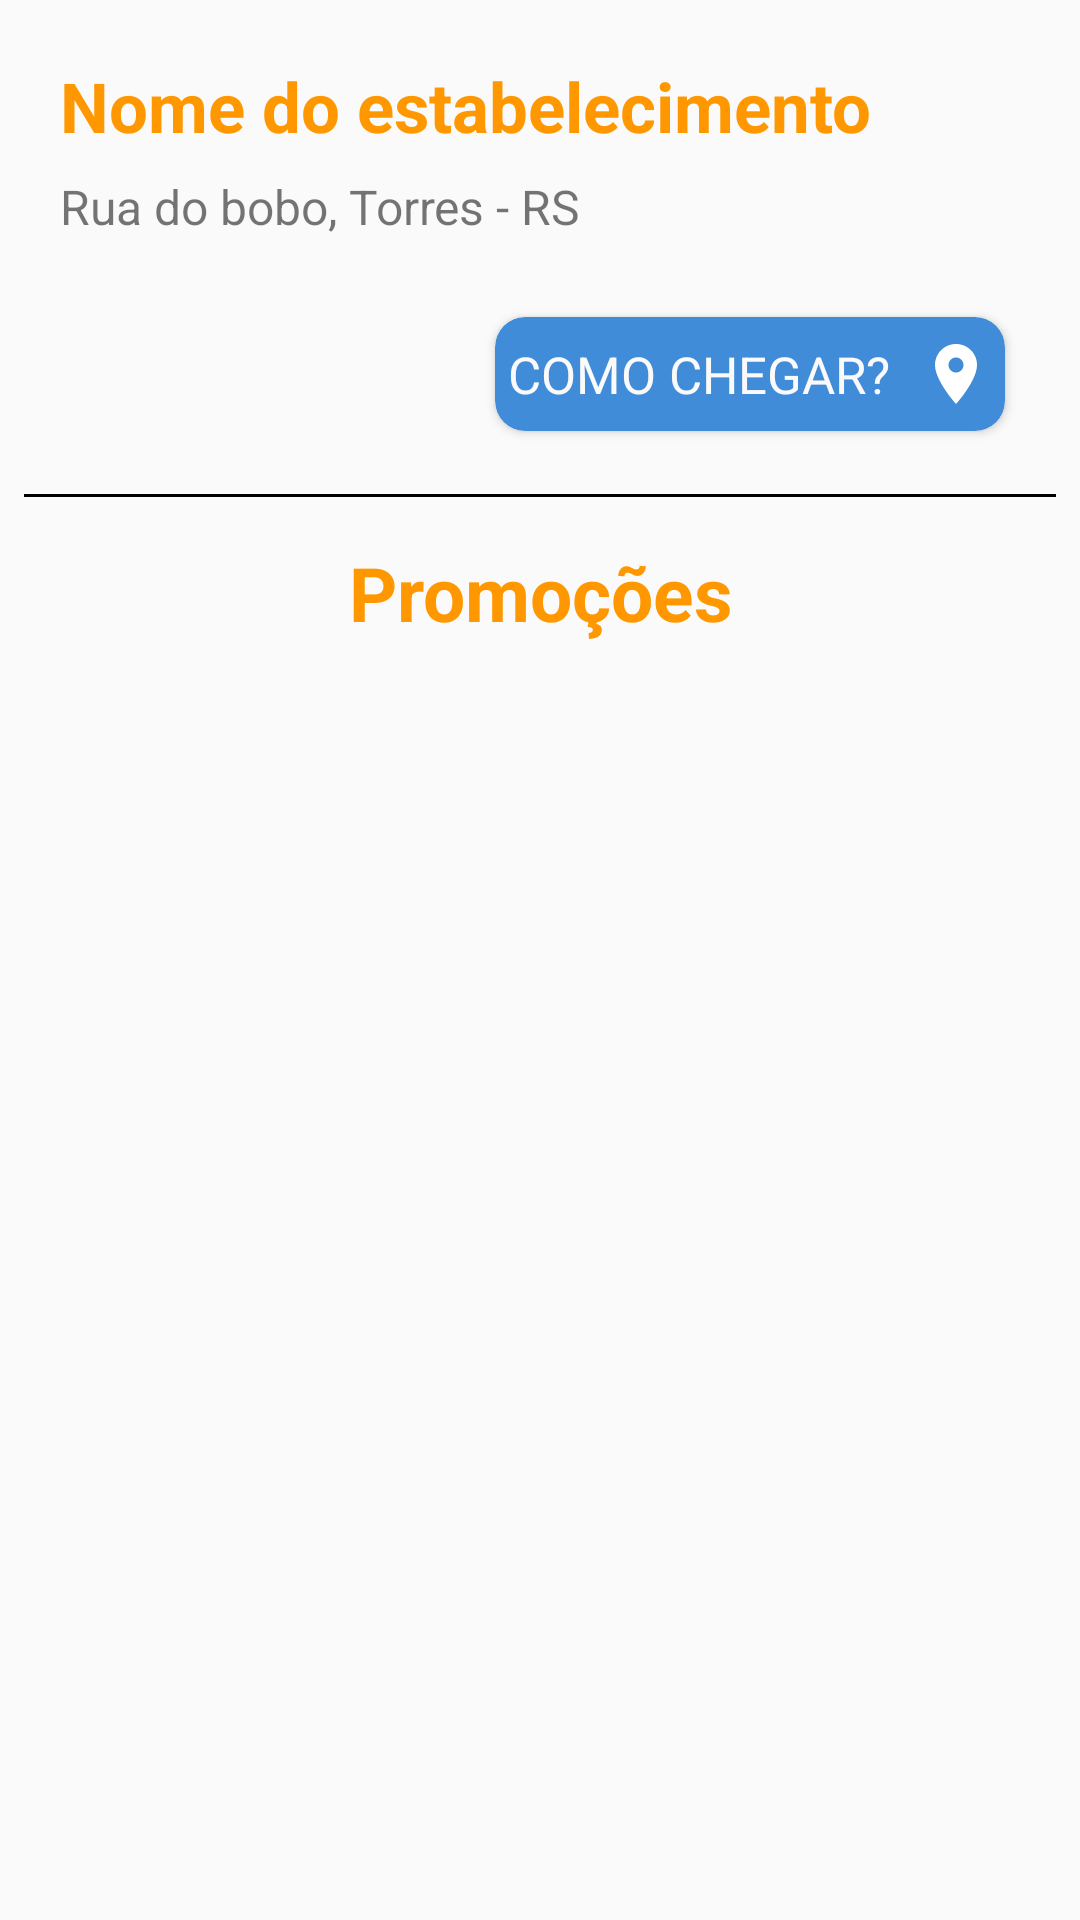

Icons on this 1080 x 1920 Android screen, each with its box as box(x1, y1, x2, y2):
location on: box(935, 344, 977, 404)
